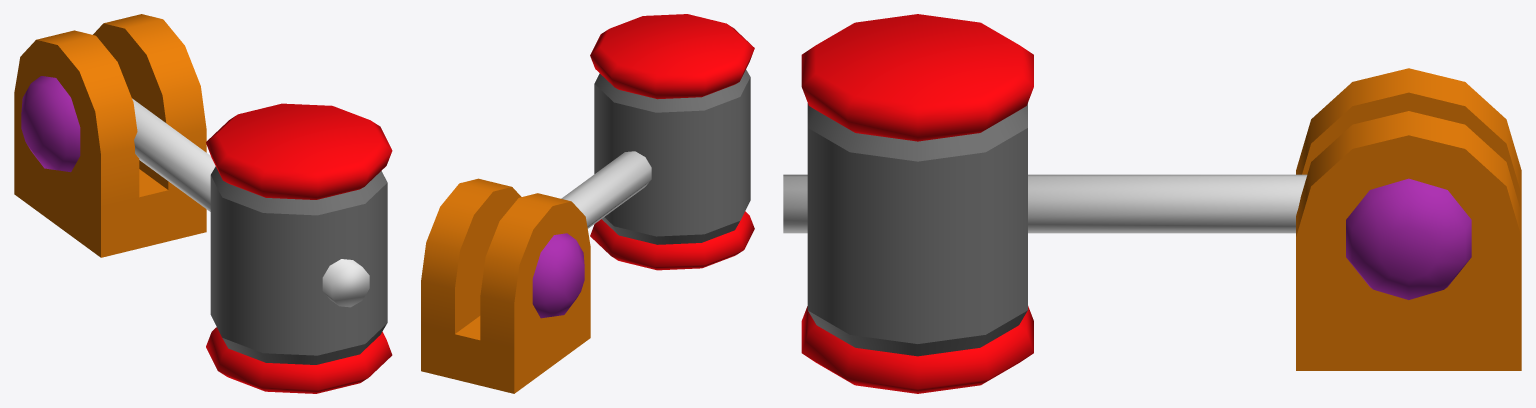
Rendered from Hummer.fbx.
The picture shows the model from 3 angles, left to right: view 1: azimuth 30°, elevation 25°; view 2: azimuth 150°, elevation 25°; view 3: azimuth 270°, elevation 25°; orthographic projection. The views are drawn at different scales.
Visible parts, largest first — view 1: Tee Joint, Cylinder; view 2: Tee Joint, Cylinder; view 3: Tee Joint, Cylinder.
Part boxes in pixels (<box>): Tee Joint: <box>21,76,392,393</box>; Cylinder: <box>14,14,206,257</box>; Tee Joint: <box>532,14,754,318</box>; Cylinder: <box>421,178,590,393</box>; Tee Joint: <box>783,14,1471,393</box>; Cylinder: <box>1296,68,1521,370</box>.
Size of the model in its own units: 49.94 by 65.22 by 151.
